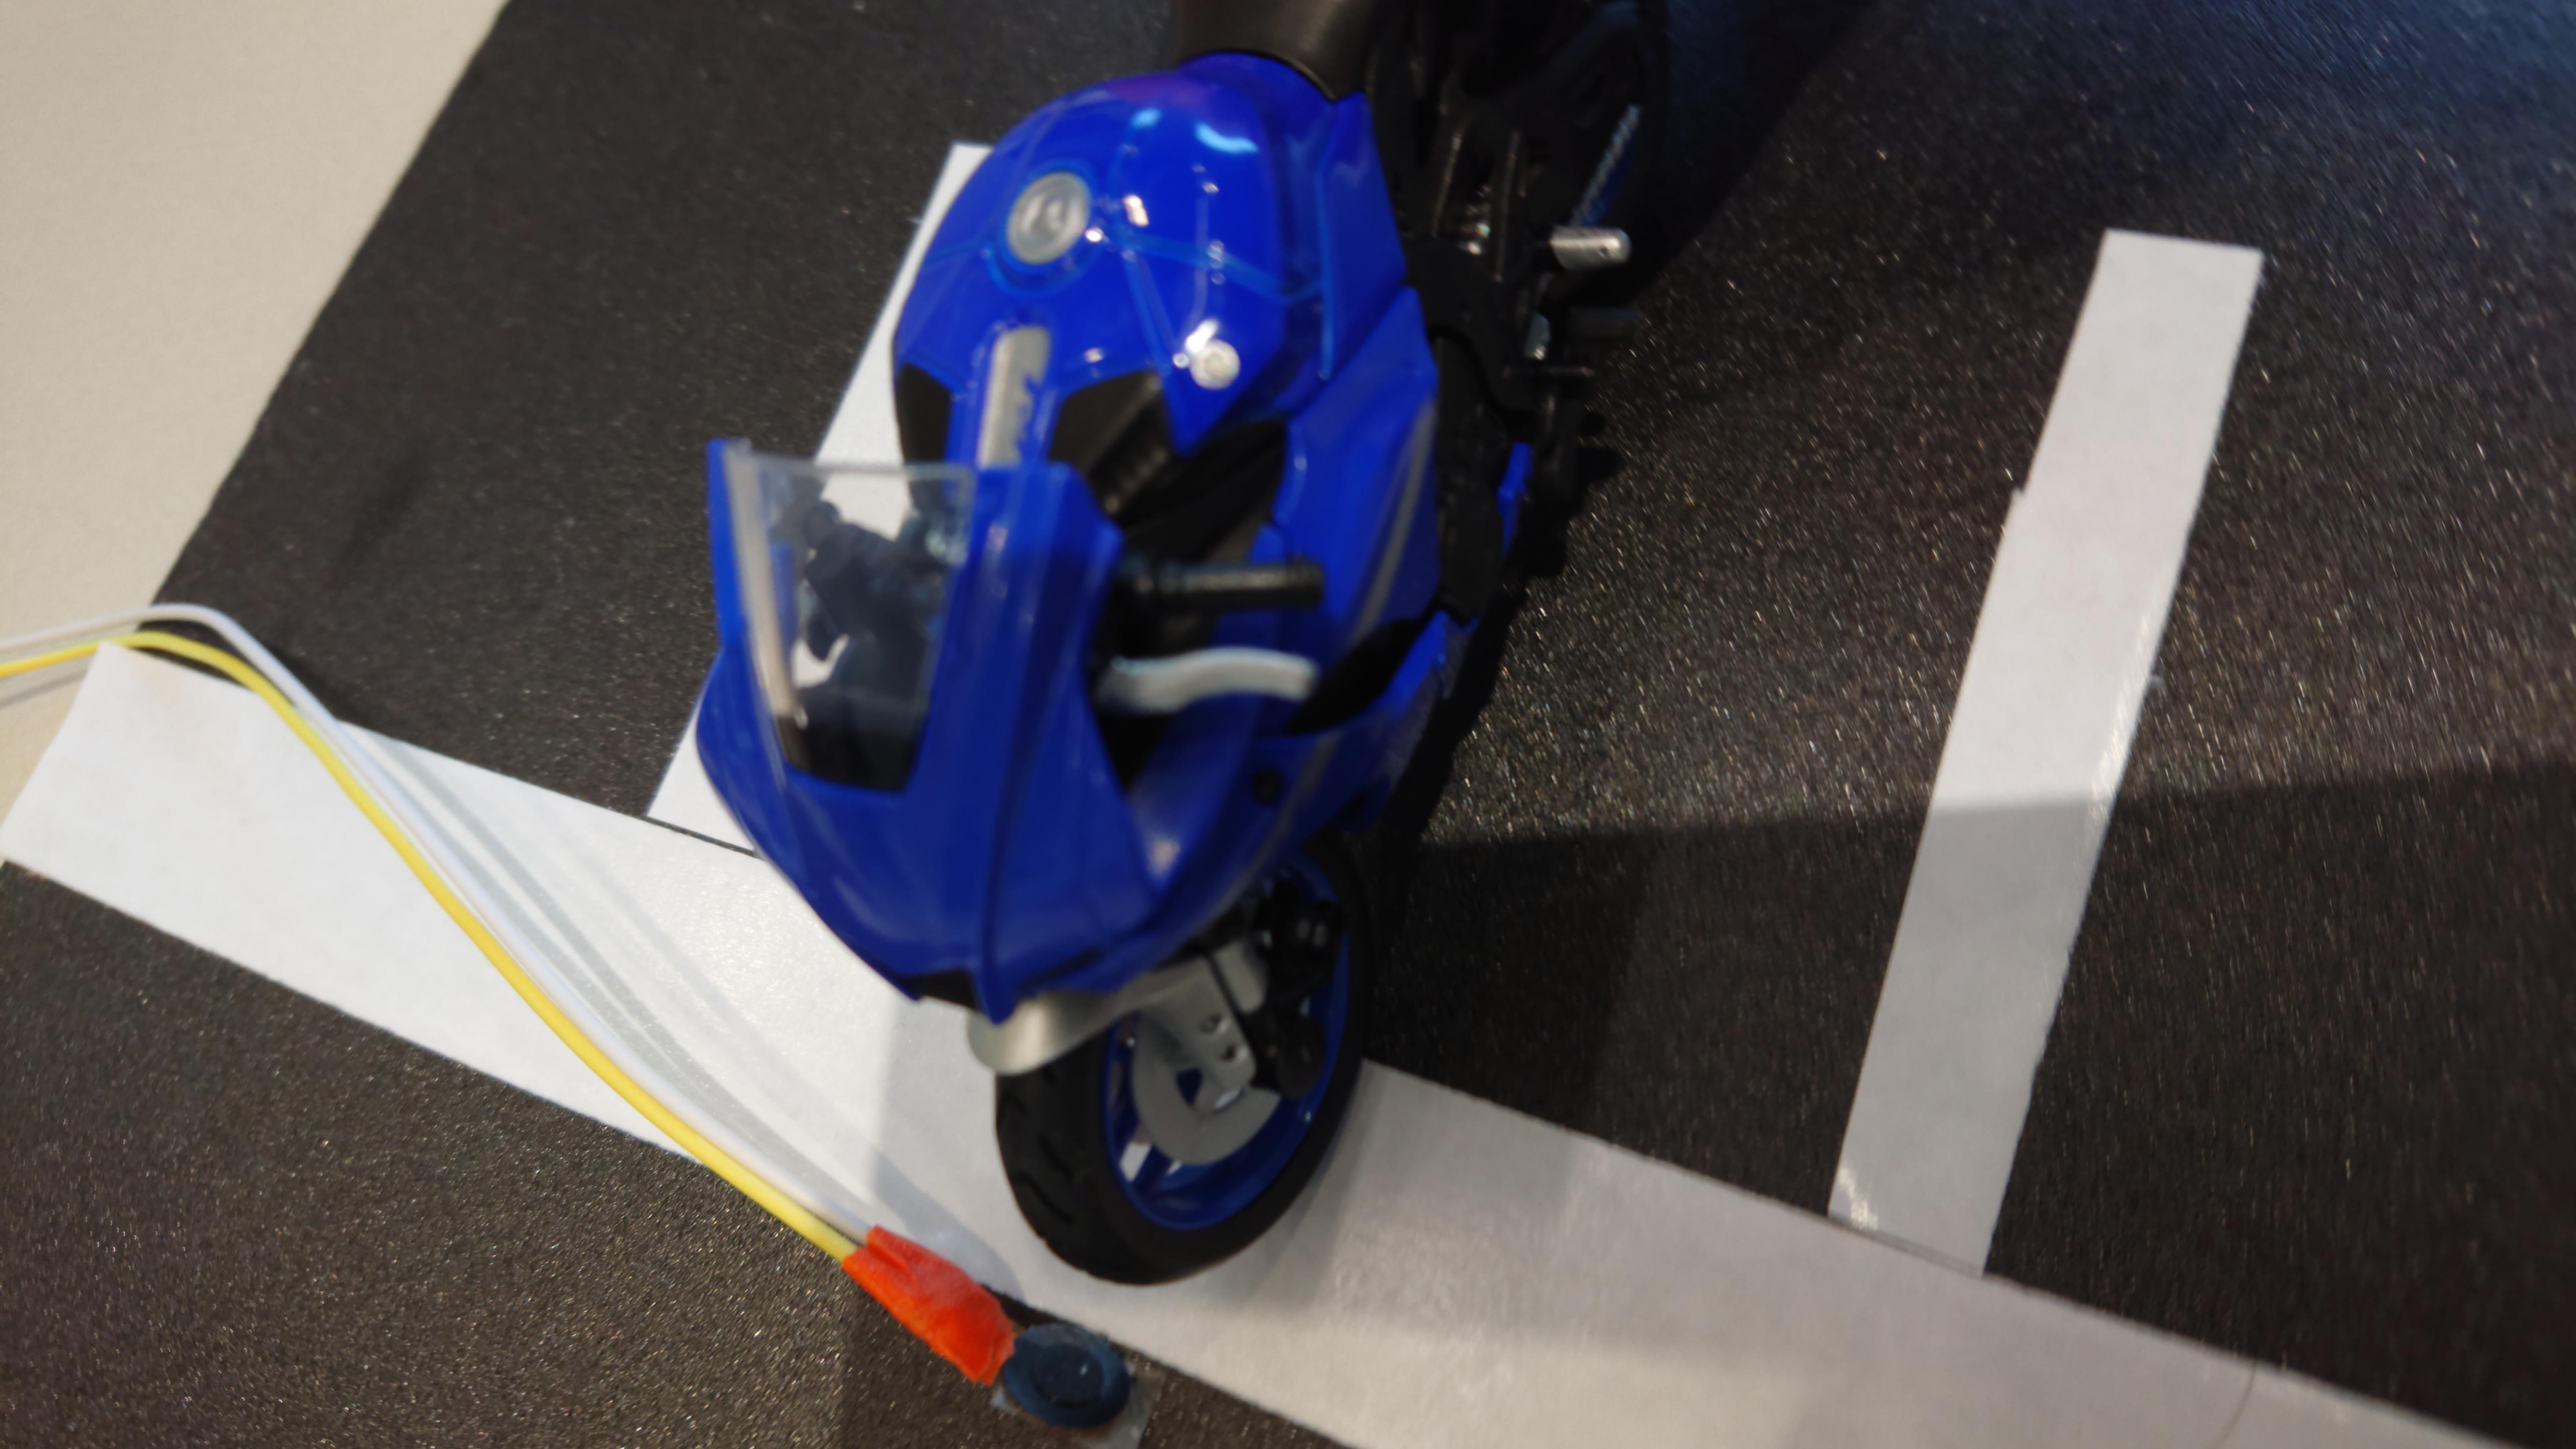Motorcycle: (662, 0, 1732, 1300)
